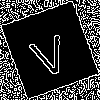V: (25, 25, 72, 80)
